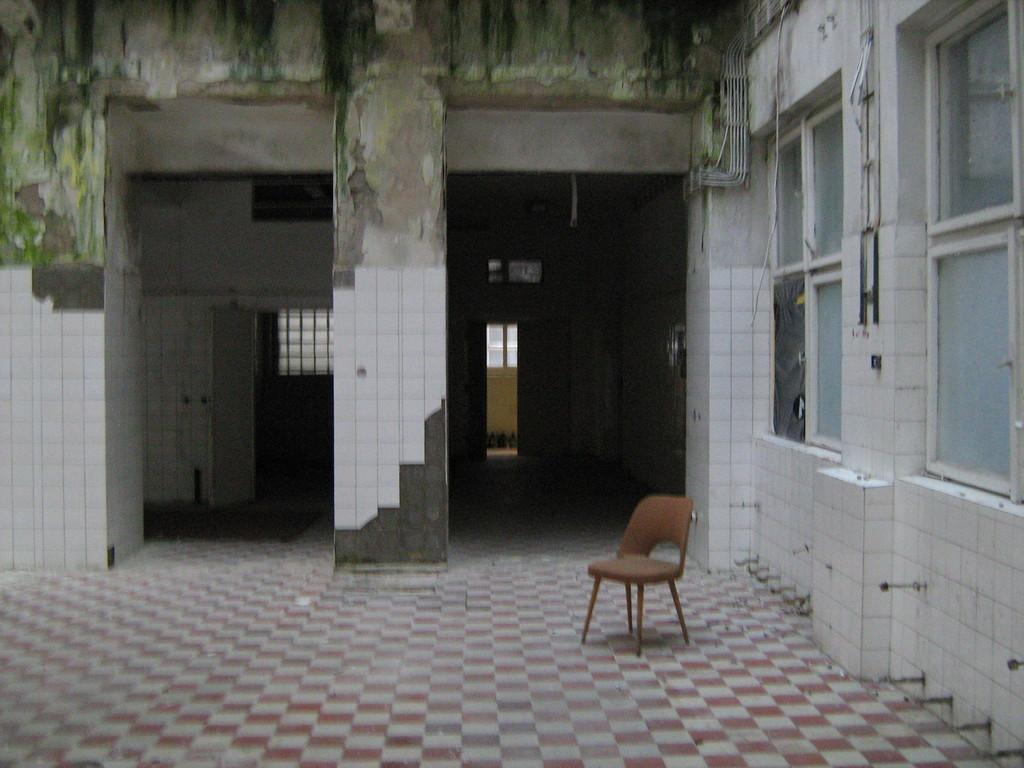Chair: (580, 476, 705, 658)
